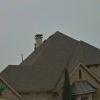Chimney: (31, 27, 42, 48)
